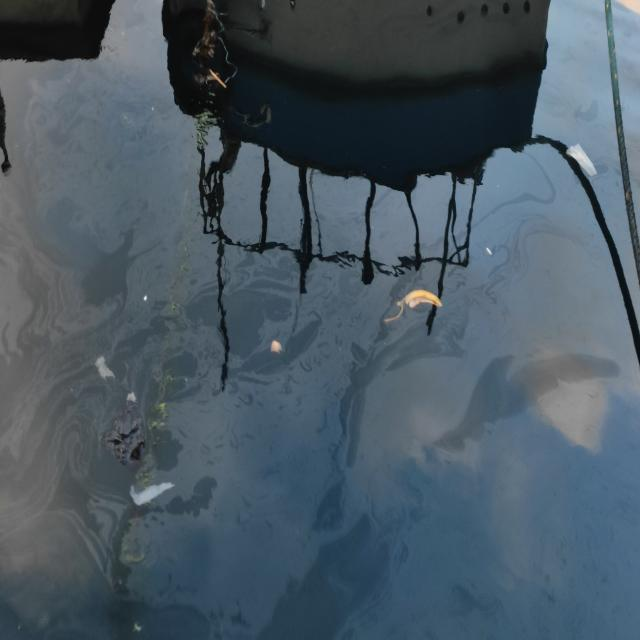Plastic bag: (98, 399, 148, 469), (129, 480, 176, 508), (94, 353, 115, 382)
Plastic packaging: (126, 391, 137, 404)
